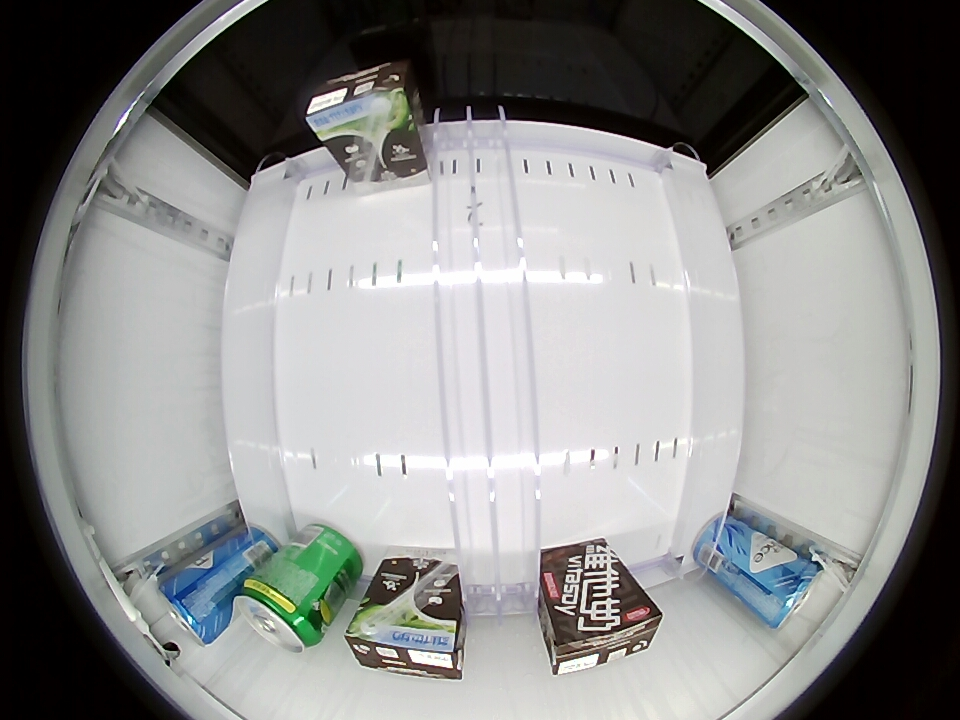qingdaowangzi-2: (158, 565, 230, 645), (758, 555, 824, 629)
weitanai2: (547, 588, 663, 676), (303, 62, 417, 142), (344, 608, 465, 679)
xuebi2: (234, 575, 327, 653)
